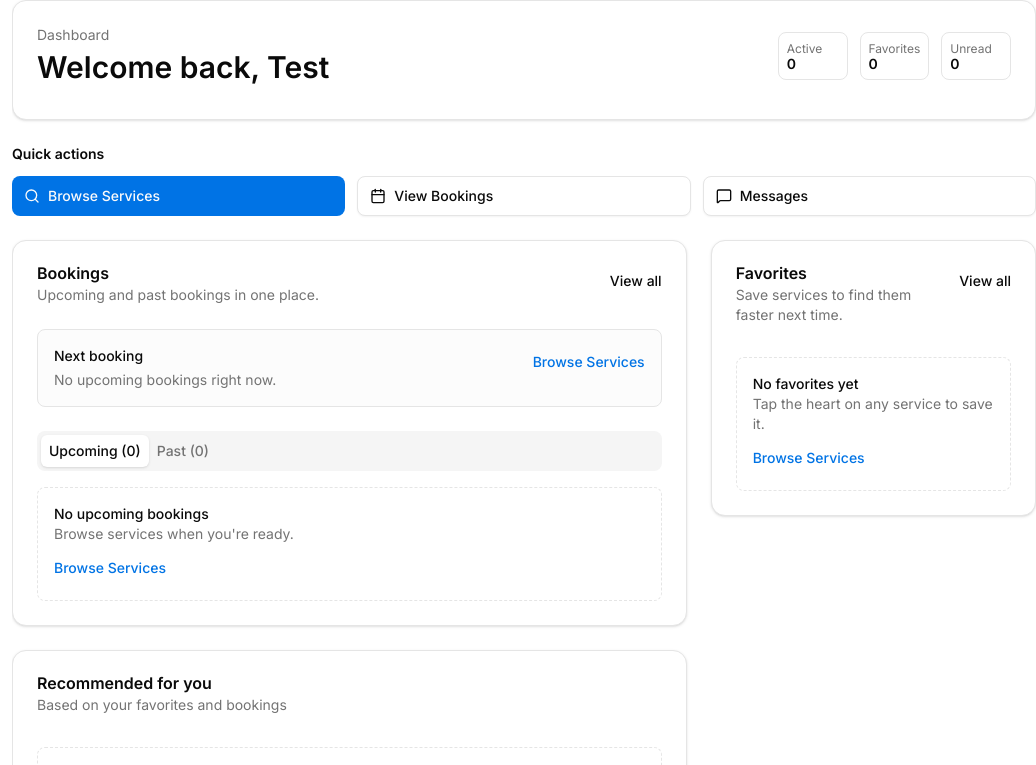
it: CustomerDashboardSections › shows empty states when no data
This screenshot has width=1036, height=765.
Check: the text "No upcoming bookings right now." is shown, box x1=54 y1=370 x2=276 y2=390
Click the button "Past (0)". click: [183, 450]
box: x1=149 y1=434 x2=217 y2=466
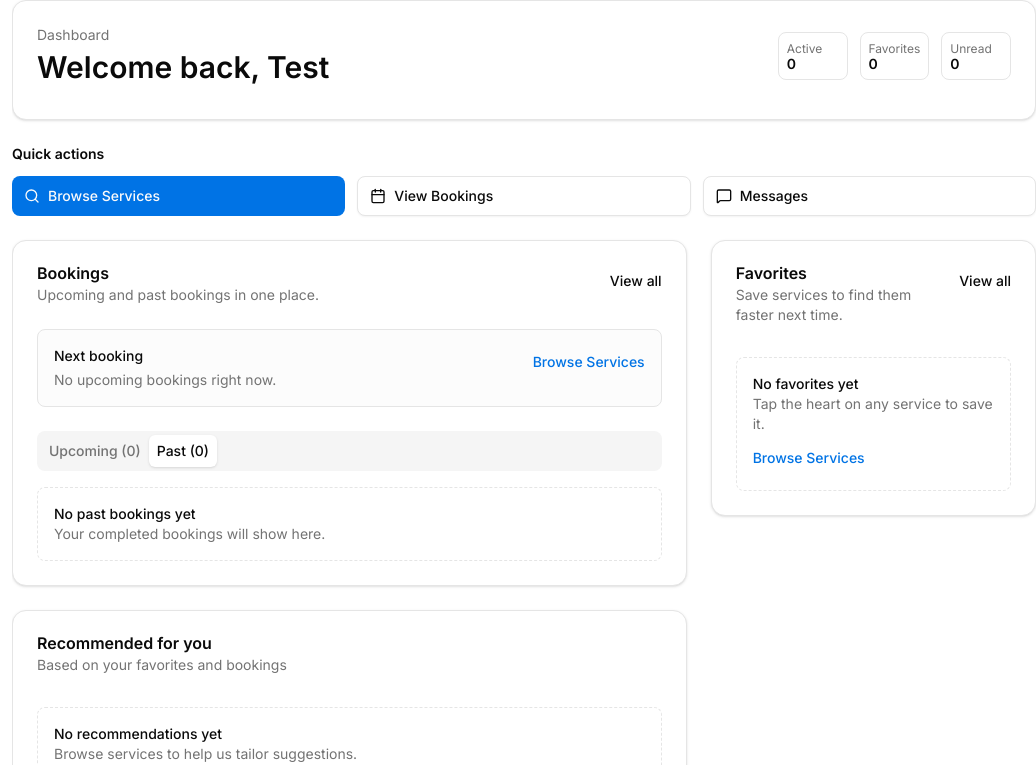
Check: the text "No favorites yet" is shown, box x1=753 y1=374 x2=858 y2=392
Check: the text "No past bookings yet" is shown, box x1=54 y1=504 x2=196 y2=522
